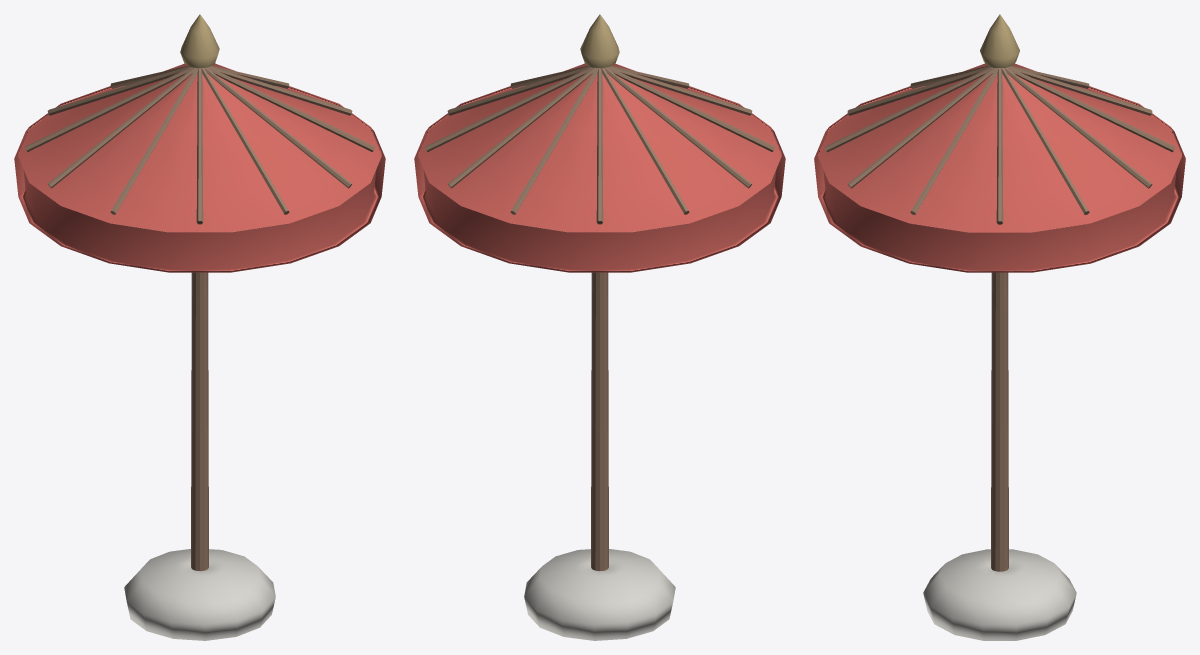
File: parasol.glb
3 renders of one model, left to right at view 1: azimuth 30°, elevation 25°; view 2: azimuth 150°, elevation 25°; view 3: azimuth 270°, elevation 25°, orthographic.
Visible parts, largest first — view 1: ceremonial-parasol; view 2: ceremonial-parasol; view 3: ceremonial-parasol.
Boxes of the visible parts, x1,y1,x2,y2 form: ceremonial-parasol: (14, 14, 385, 640); ceremonial-parasol: (414, 14, 785, 640); ceremonial-parasol: (814, 14, 1185, 640).
Bounding box in the file's own units: 1.81 × 3.26 × 1.84.
